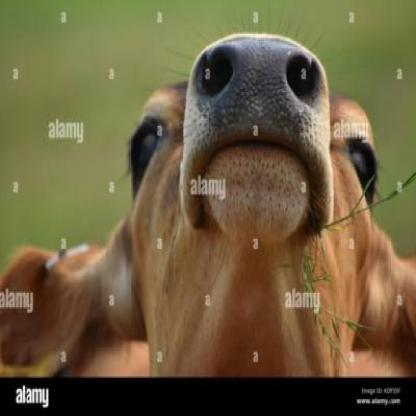lower: (202, 155, 318, 229)
mouth: (184, 33, 334, 241)
upper: (196, 53, 322, 146)
